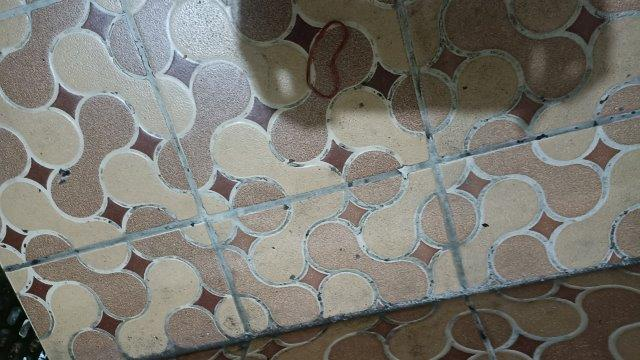karet: (305, 20, 348, 98)
